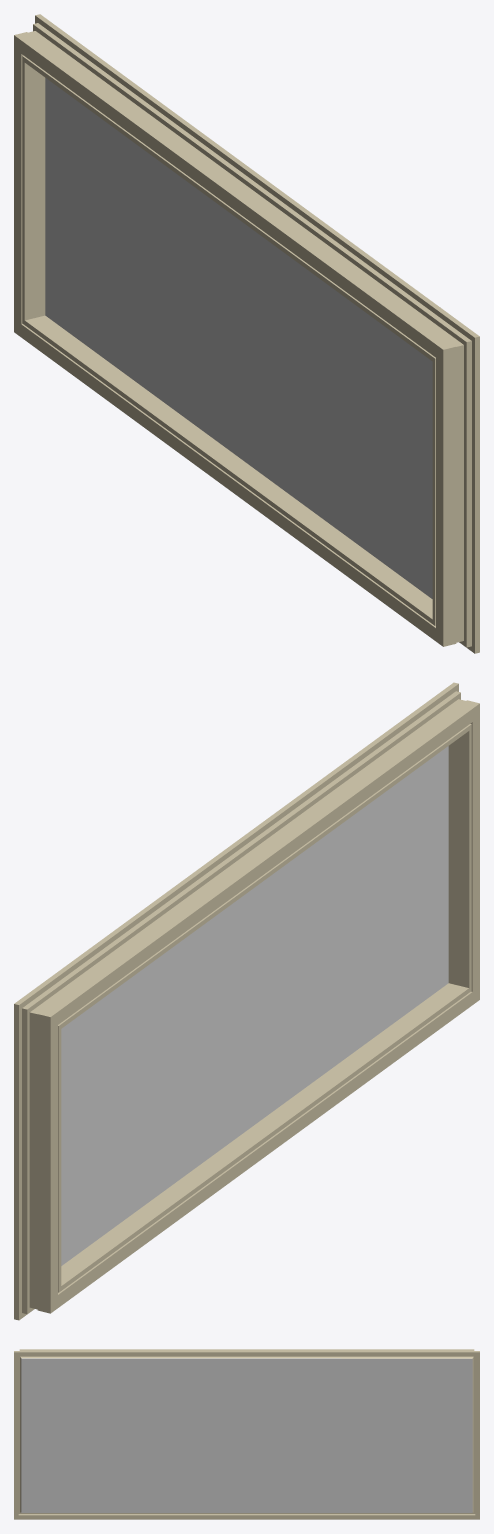
3 renders of one model, top to bottom at view 1: azimuth 30°, elevation 25°; view 2: azimuth 150°, elevation 25°; view 3: azimuth 270°, elevation 25°, orthographic. The views are drawn at different scales.
Parts seen in each view (by area): view 1: AWS114_SG Manual:AWS114 SG Manual CW:3092051; view 2: AWS114_SG Manual:AWS114 SG Manual CW:3092051; view 3: AWS114_SG Manual:AWS114 SG Manual CW:3092051.
Boxes of the visible parts, x1=… form: AWS114_SG Manual:AWS114 SG Manual CW:3092051: x1=14, y1=14, x2=479, y2=653; AWS114_SG Manual:AWS114 SG Manual CW:3092051: x1=14, y1=682, x2=479, y2=1320; AWS114_SG Manual:AWS114 SG Manual CW:3092051: x1=14, y1=1349, x2=479, y2=1519.
Bounding box in the file's own units: 0.1058 × 1 × 2.53.
